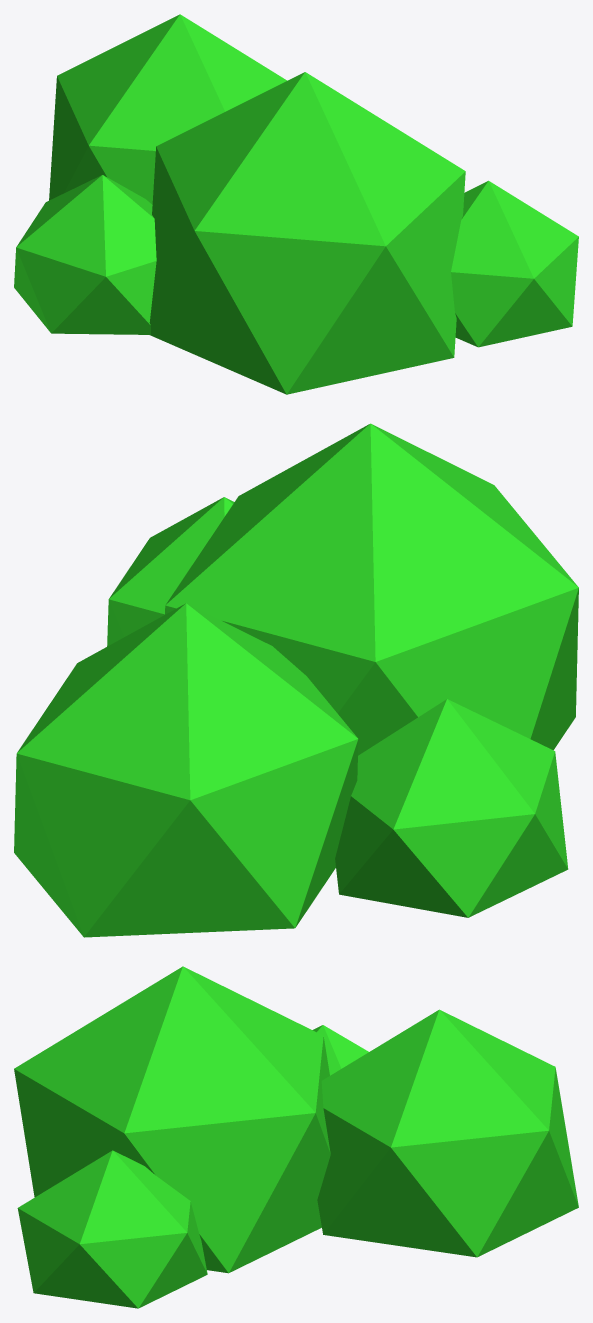
The model's file is Large Bush Group.fbx.
3 renders of one model, top to bottom at view 1: azimuth 30°, elevation 25°; view 2: azimuth 150°, elevation 25°; view 3: azimuth 270°, elevation 25°, orthographic. The views are drawn at different scales.
Visible parts, largest first — view 1: Large Bush Group; view 2: Large Bush Group; view 3: Large Bush Group.
Boxes of the visible parts, <box> form: Large Bush Group: <box>14,14,578,394</box>; Large Bush Group: <box>14,423,578,937</box>; Large Bush Group: <box>14,966,578,1308</box>.
Size of the model in its own units: 461 by 274 by 542.
